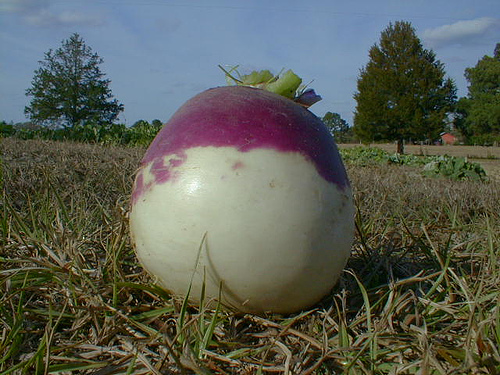turnip: (127, 63, 356, 313)
